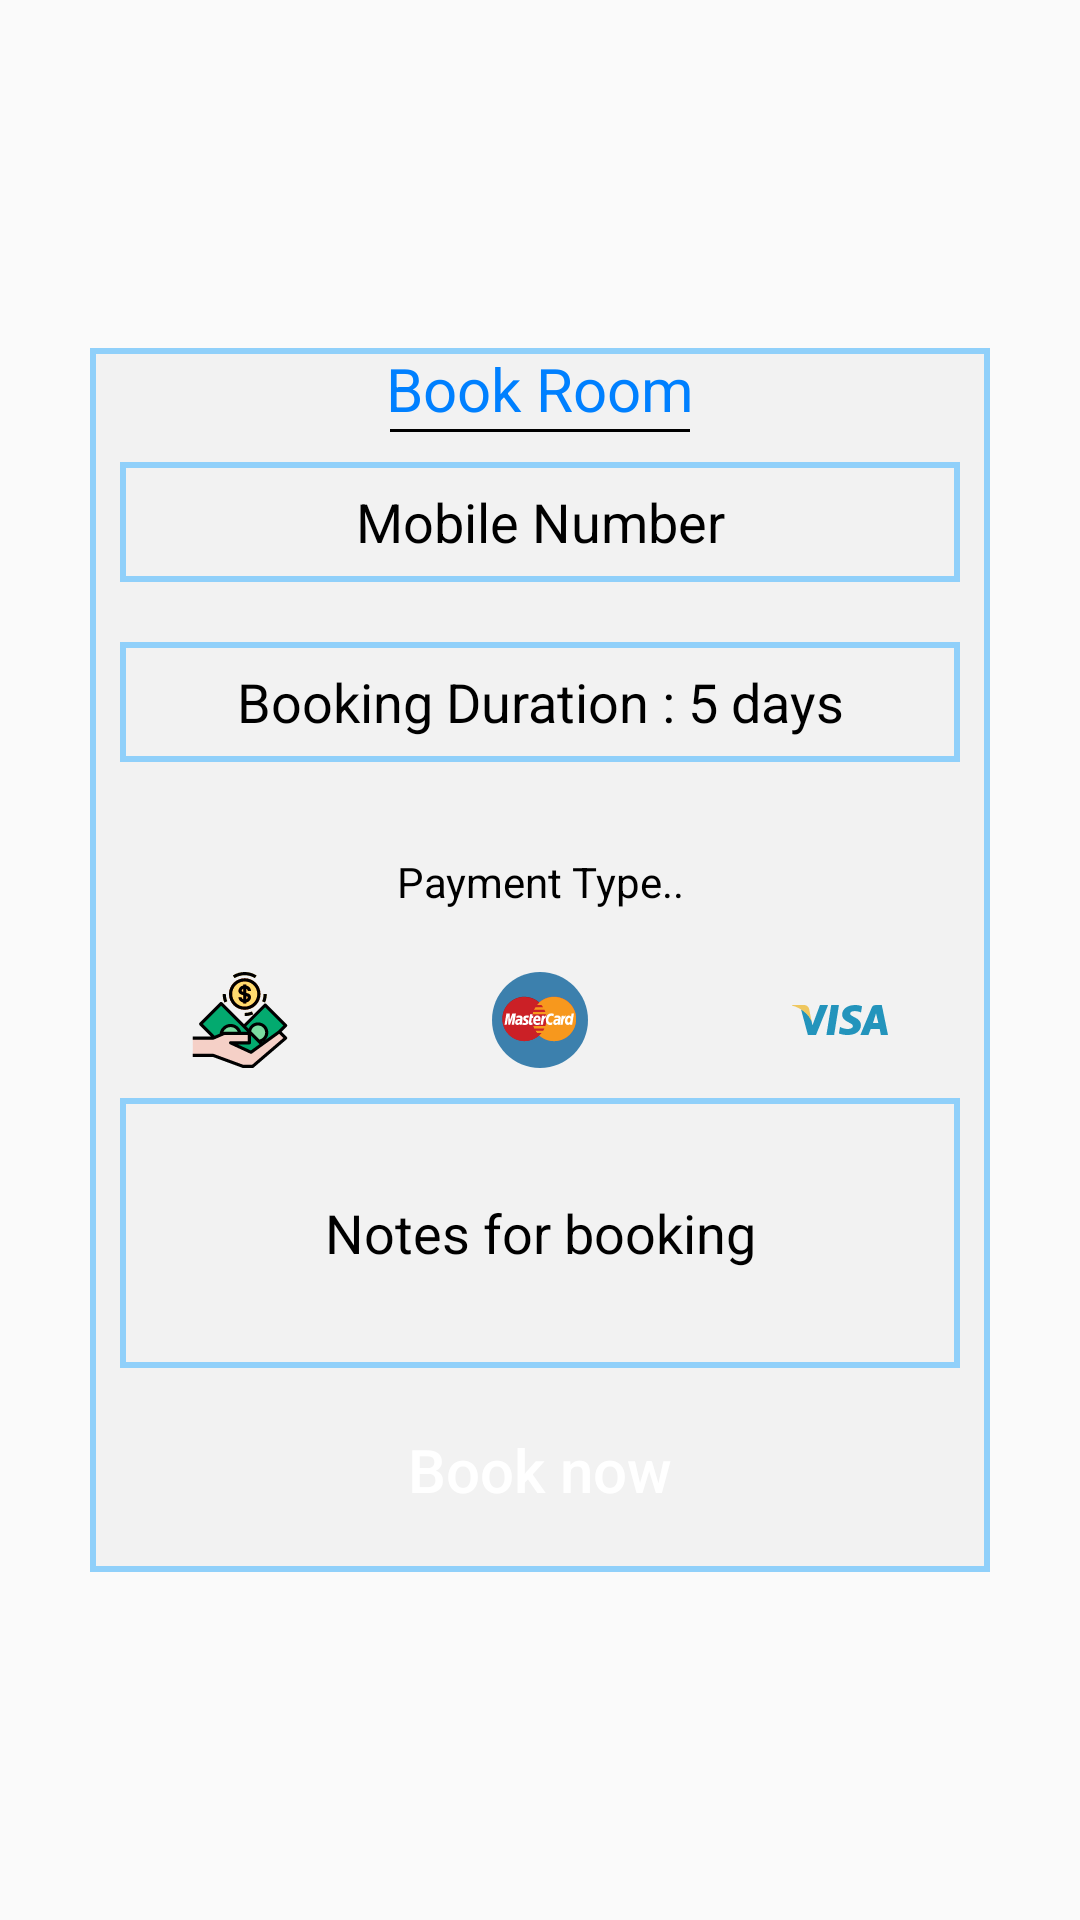

Where to tap for icons on this 1080x1920 app screen, as (x,y):
cash: (240,1020)
